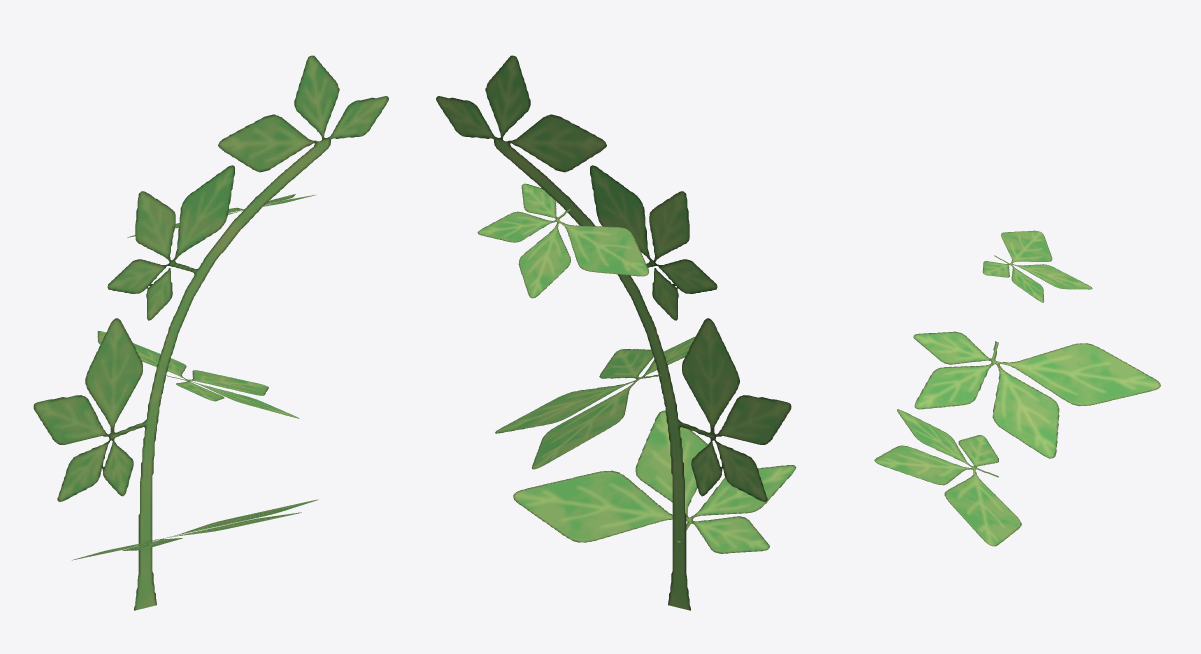
The model's file is LeafSetF_11.fbx.
3 views of the same model, side by side, from view 1: azimuth 30°, elevation 25°; view 2: azimuth 150°, elevation 25°; view 3: azimuth 270°, elevation 25° (orthographic). The views are drawn at different scales.
Parts seen in each view (by area): view 1: LeafSetF_11; view 2: LeafSetF_11; view 3: LeafSetF_11.
Part boxes in pixels (left/top/right/bottom): LeafSetF_11: left=33, top=55, right=388, bottom=610; LeafSetF_11: left=436, top=55, right=796, bottom=610; LeafSetF_11: left=874, top=230, right=1160, bottom=546.
Bounding box in the file's own units: 0.6208 × 0.8339 × 0.5175.
